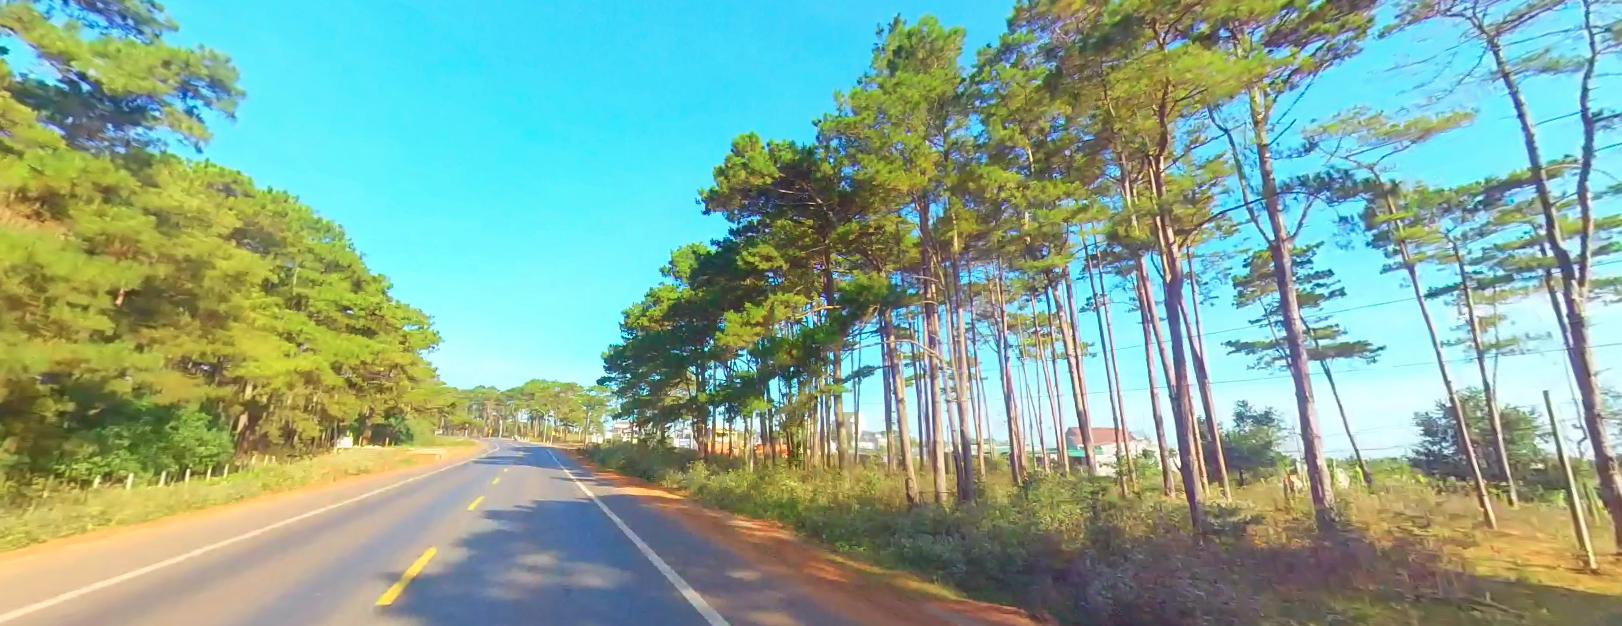Nguy hiem: (487, 425, 493, 433)
